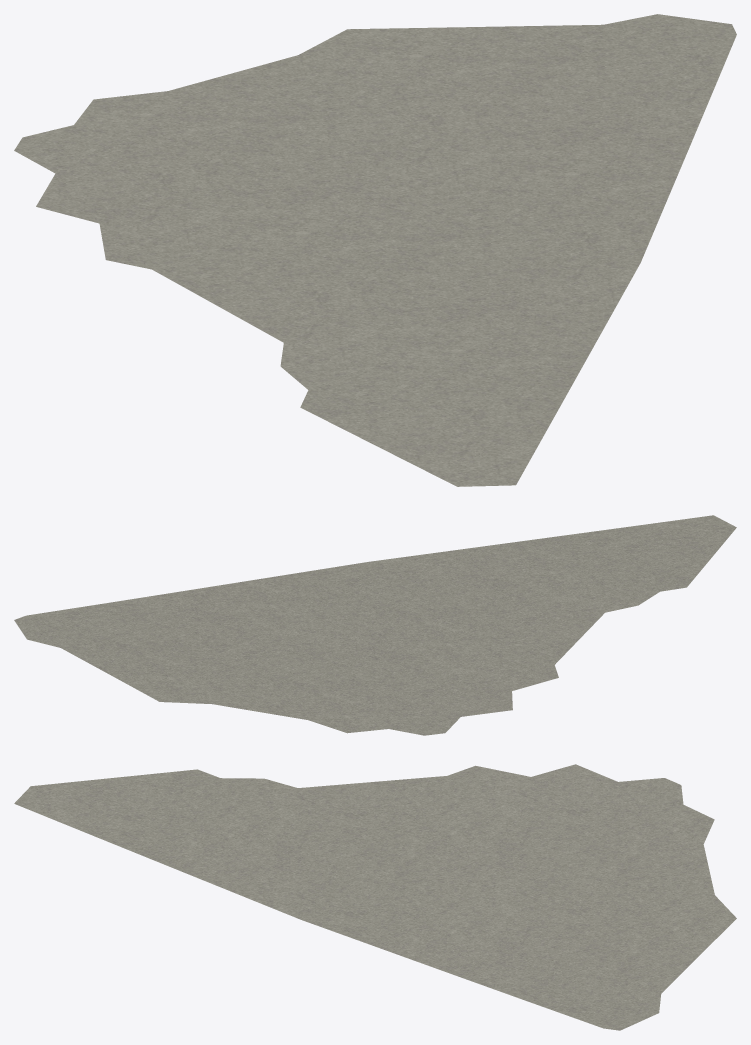
File: path_08.glb
3 renders of one model, top to bottom at view 1: azimuth 30°, elevation 25°; view 2: azimuth 150°, elevation 25°; view 3: azimuth 270°, elevation 25°, orthographic. The views are drawn at different scales.
Parts seen in each view (by area): view 1: path_08.surface; view 2: path_08.surface; view 3: path_08.surface.
Boxes of the visible parts, <box> form: path_08.surface: <box>14,14,736,486</box>; path_08.surface: <box>14,515,736,735</box>; path_08.surface: <box>14,764,736,1030</box>.
Bounding box in the file's own units: 5.4 × 0.1313 × 6.5.
Materials: 1 (1 with a texture image).
